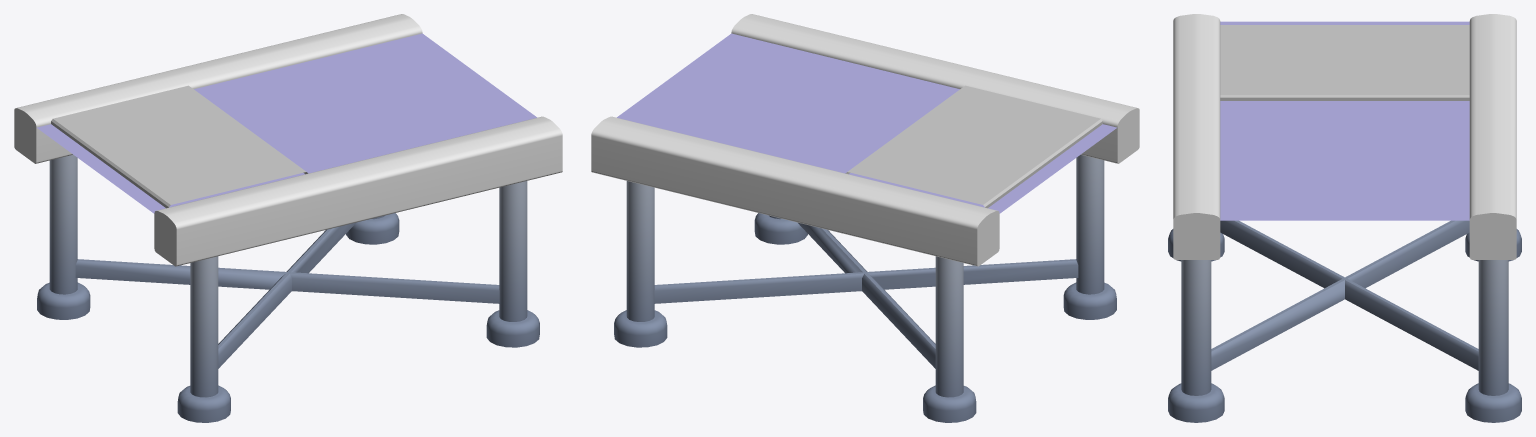
File: Rail_Exit.fbx
The picture shows the model from 3 angles, left to right: view 1: azimuth 30°, elevation 25°; view 2: azimuth 150°, elevation 25°; view 3: azimuth 270°, elevation 25°; orthographic projection. The views are drawn at different scales.
Visible parts, largest first — view 1: Rail_Exit; view 2: Rail_Exit; view 3: Rail_Exit.
Boxes of the visible parts, left/top/right/bottom form: Rail_Exit: left=14, top=14, right=562, bottom=422; Rail_Exit: left=591, top=14, right=1139, bottom=422; Rail_Exit: left=1168, top=14, right=1521, bottom=422.
Size of the model in its own units: 100 by 51 by 75.12.
